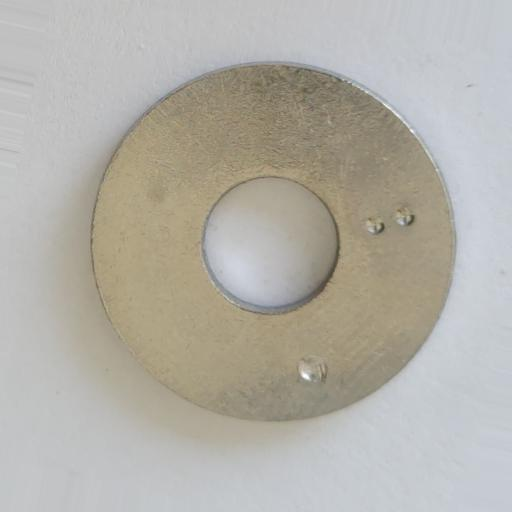circular_cavity: (298, 355, 330, 384), (394, 207, 415, 227), (364, 216, 385, 235)
